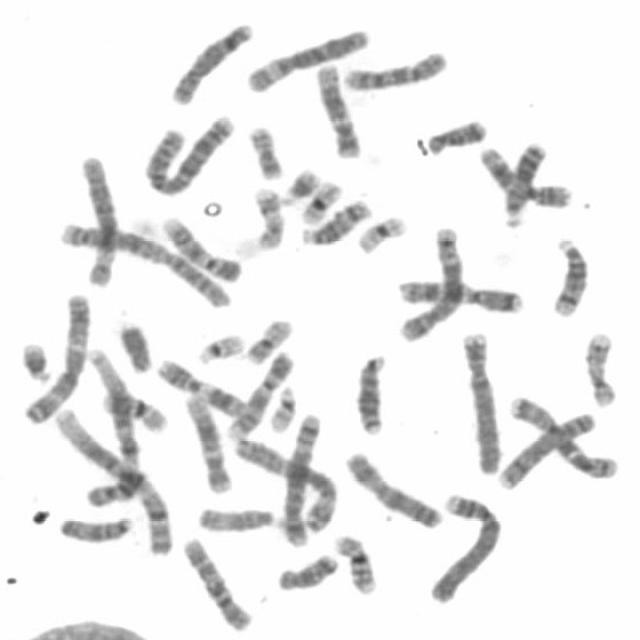A1: (49, 401, 175, 557), (79, 341, 140, 510)
A2: (52, 214, 236, 310), (137, 105, 239, 198)
A3: (226, 428, 341, 534), (16, 285, 94, 426)
B4: (422, 486, 504, 606), (455, 323, 505, 476)
B5: (393, 218, 466, 344), (276, 404, 324, 548)
C10: (175, 530, 255, 634), (336, 42, 450, 92)
C11: (471, 138, 575, 210), (149, 351, 249, 418)
C12: (178, 386, 234, 495), (308, 55, 364, 160)
C6: (239, 21, 372, 94), (72, 146, 121, 289)
C7: (502, 387, 622, 480), (391, 271, 527, 316)
C8: (490, 404, 598, 491), (162, 14, 257, 106)
C9: (221, 344, 297, 439), (154, 208, 245, 284)
D13: (497, 134, 550, 229), (348, 346, 389, 437)
D14: (294, 192, 374, 248), (544, 229, 591, 318)
D15: (191, 498, 280, 534), (53, 507, 136, 545)
E16: (327, 528, 380, 596), (97, 385, 170, 434)
E17: (577, 323, 621, 410), (246, 179, 287, 252)
E18: (418, 110, 491, 156), (270, 546, 340, 592)
F19: (350, 208, 409, 255), (293, 173, 345, 226)
F20: (239, 310, 295, 366), (241, 116, 286, 180)
G21: (271, 160, 321, 206), (13, 333, 56, 385)
G22: (188, 326, 247, 366), (262, 378, 299, 433)
X: (337, 443, 446, 531)
Y: (111, 315, 154, 374)
